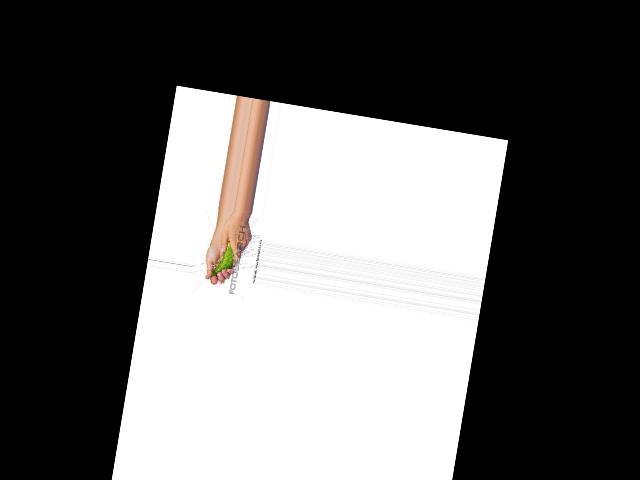cucumber: (211, 237, 237, 280)
